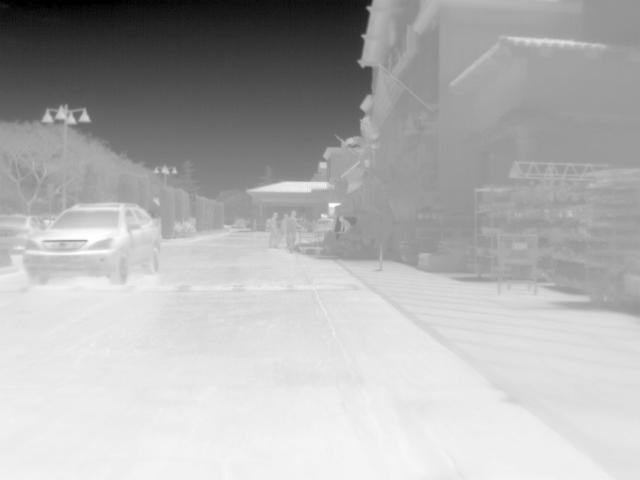car: (22, 200, 164, 285), (0, 213, 46, 253), (312, 220, 336, 238), (233, 218, 246, 229)
person: (284, 208, 303, 250), (266, 210, 281, 248), (338, 215, 352, 235)
